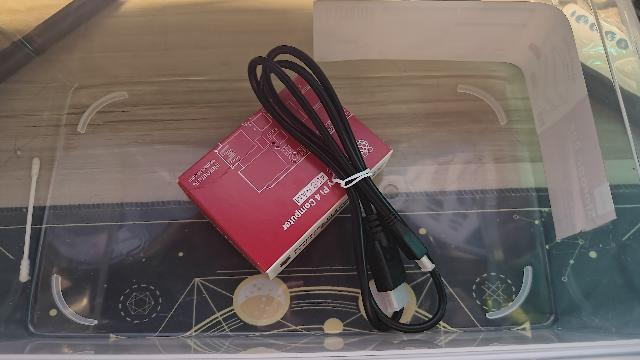hdmi_cable: (246, 40, 450, 336)
rpi_box: (171, 70, 395, 281)
